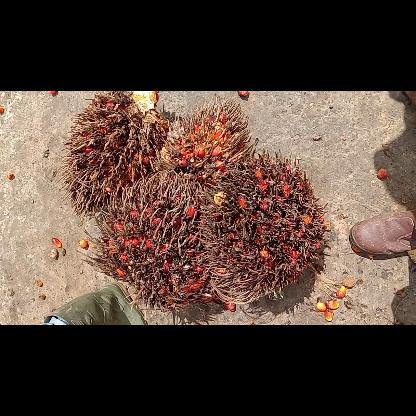Terlalu masak: (74, 164, 228, 312), (198, 146, 332, 304), (54, 91, 176, 221), (160, 96, 260, 192)
